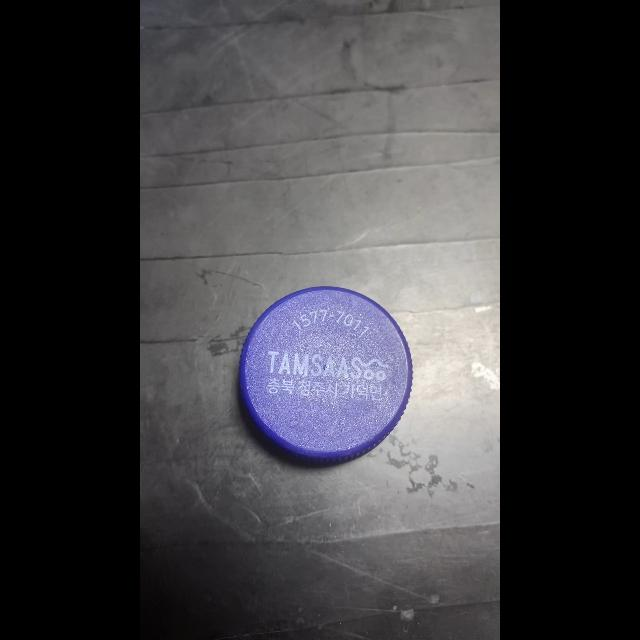plastic_bottle_cap: (232, 281, 416, 465)
